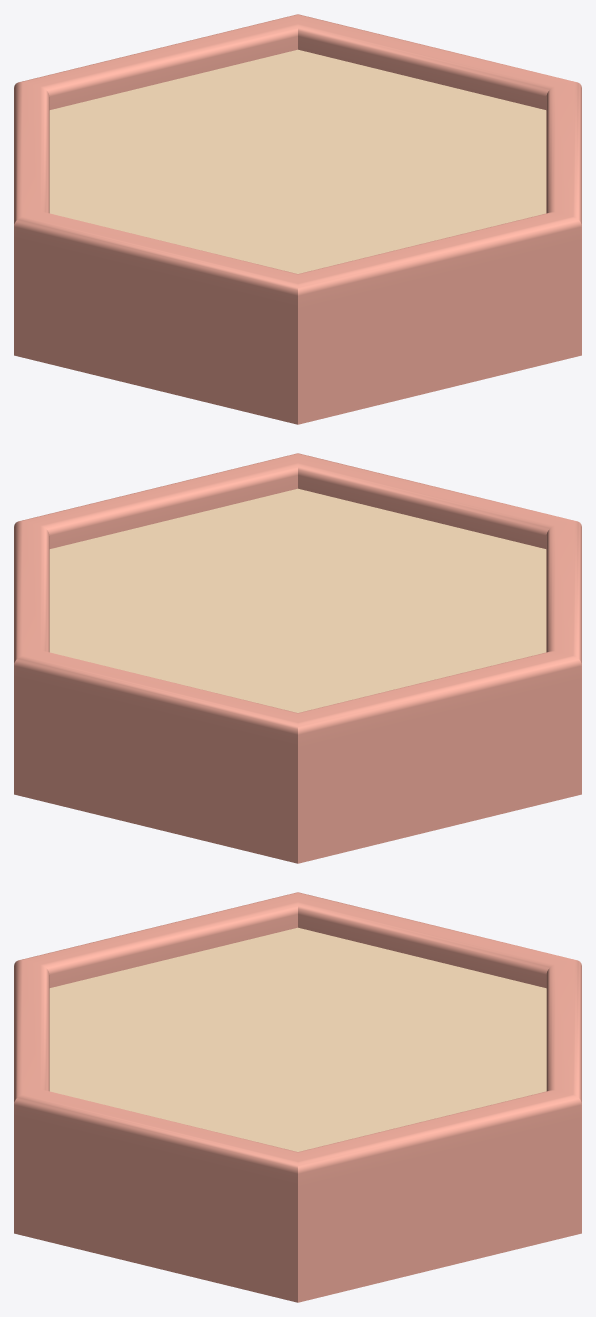
Rendered from Statue_of_Liberty4.fbx.
3 renders of one model, top to bottom at view 1: azimuth 30°, elevation 25°; view 2: azimuth 150°, elevation 25°; view 3: azimuth 270°, elevation 25°, orthographic.
Parts seen in each view (by area): view 1: Statue_of_Liberty4; view 2: Statue_of_Liberty4; view 3: Statue_of_Liberty4.
Part boxes in pixels (x1,y1,x2,y2): Statue_of_Liberty4: [14, 14, 581, 424]; Statue_of_Liberty4: [14, 453, 581, 863]; Statue_of_Liberty4: [14, 892, 581, 1302].
Size of the model in its own units: 5.88 by 1.35 by 5.09.
